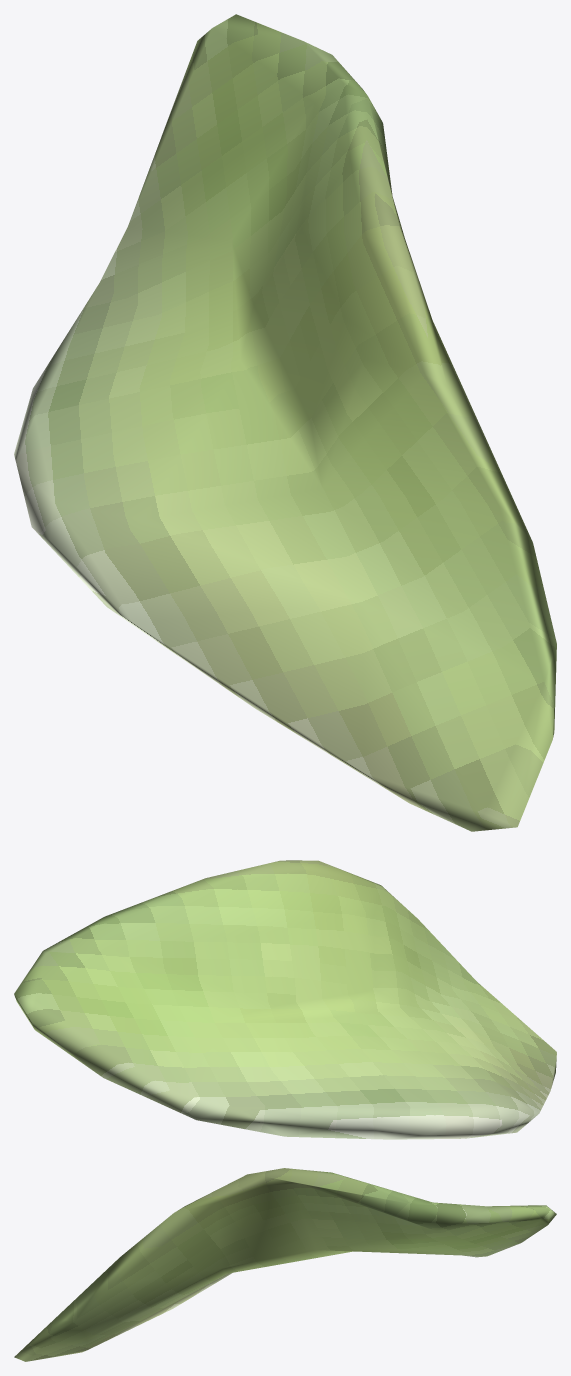
Rendered from broadleaf_b.glb.
The picture shows the model from 3 angles, top to bottom: view 1: azimuth 30°, elevation 25°; view 2: azimuth 150°, elevation 25°; view 3: azimuth 270°, elevation 25°; orthographic projection. The views are drawn at different scales.
Parts seen in each view (by area): view 1: broadleaf_b; view 2: broadleaf_b; view 3: broadleaf_b.
Boxes of the visible parts, x1,y1,x2,y2 form: broadleaf_b: (14,14,556,831); broadleaf_b: (14,860,556,1139); broadleaf_b: (14,1168,556,1361).
Bounding box in the file's own units: 0.0562 × 0.0503 × 0.1084.
1 material, 1 textured.
